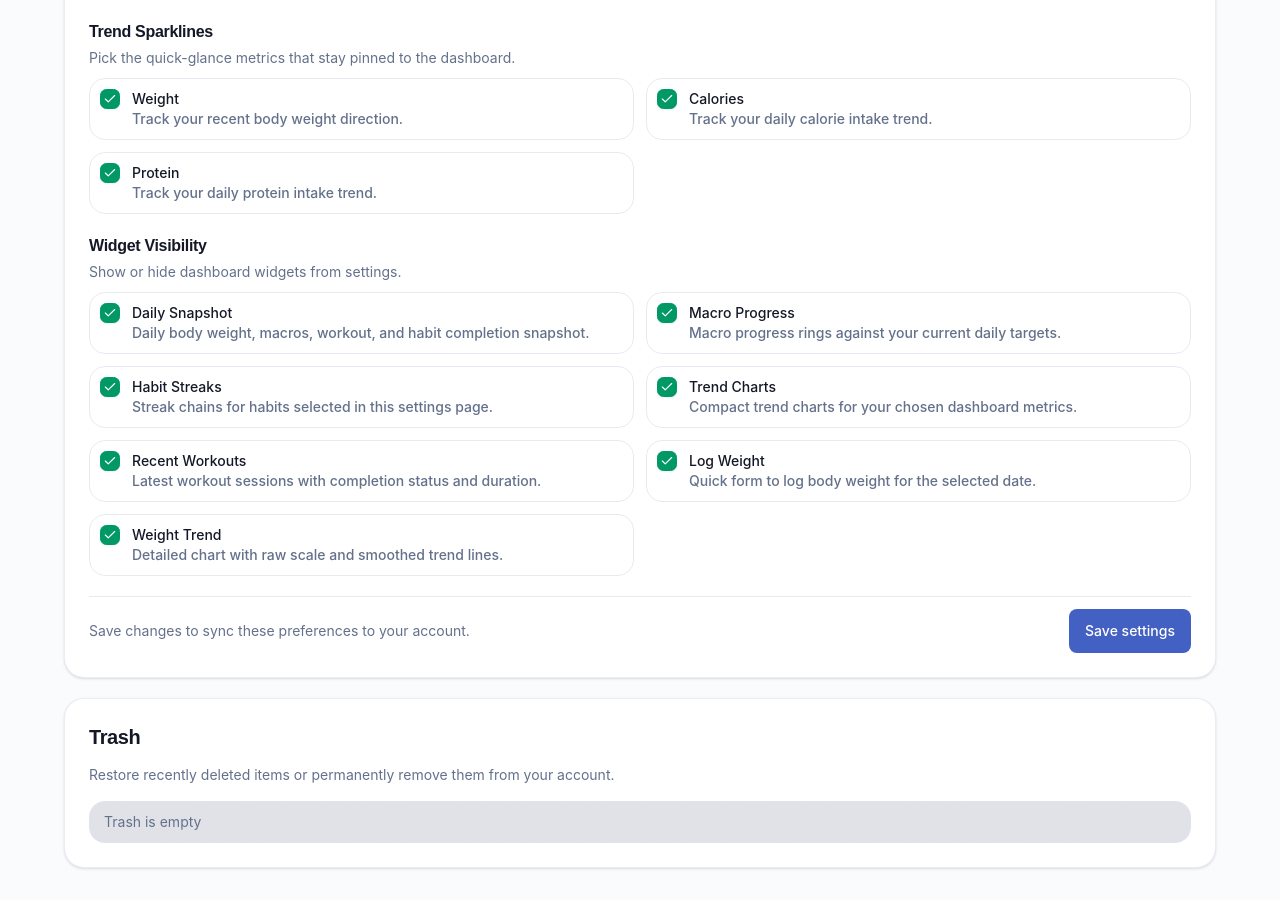
Test: SettingsPage › shows a partial failure message when nutrition target save fails
(page scrolled)
Click the button "Save settings".
click(1130, 631)  # box [1069,609,1191,653]
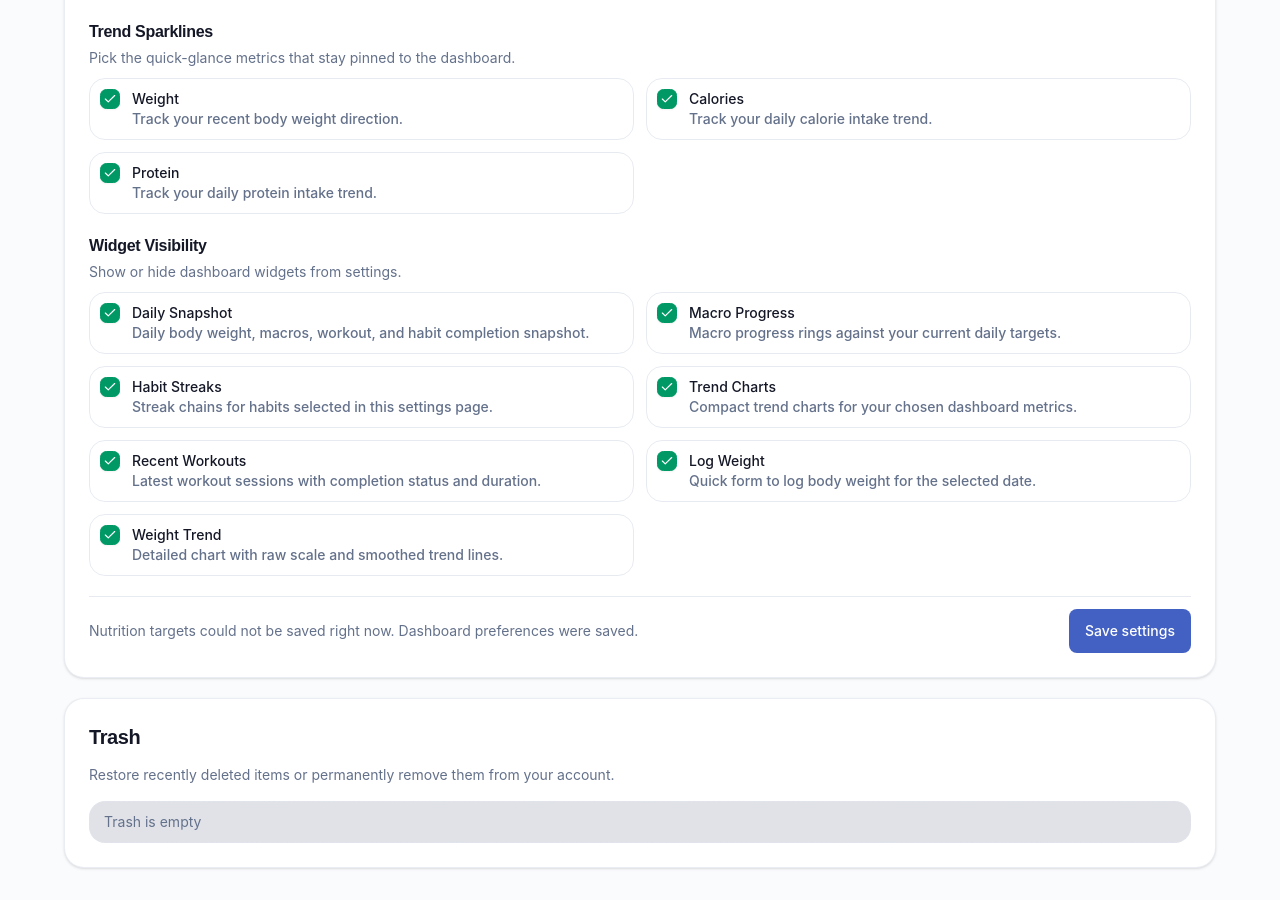
Expected: the text "Nutrition targets could not be saved right now. Dashboard preferences were saved." is shown, [89,622,638,639]
